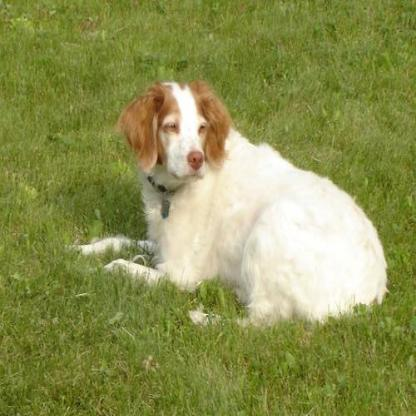Brittany_spaniel: (67, 72, 390, 326)
